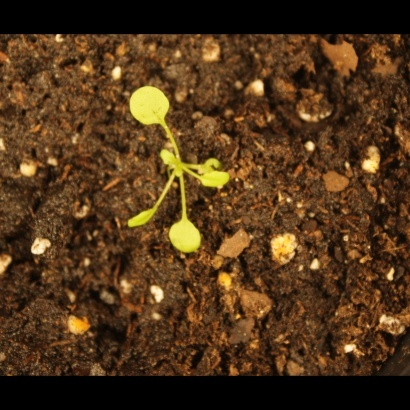leaf: (123, 83, 176, 130), (167, 210, 208, 258), (194, 167, 237, 198), (122, 204, 163, 233), (197, 155, 225, 178), (158, 149, 181, 172)
